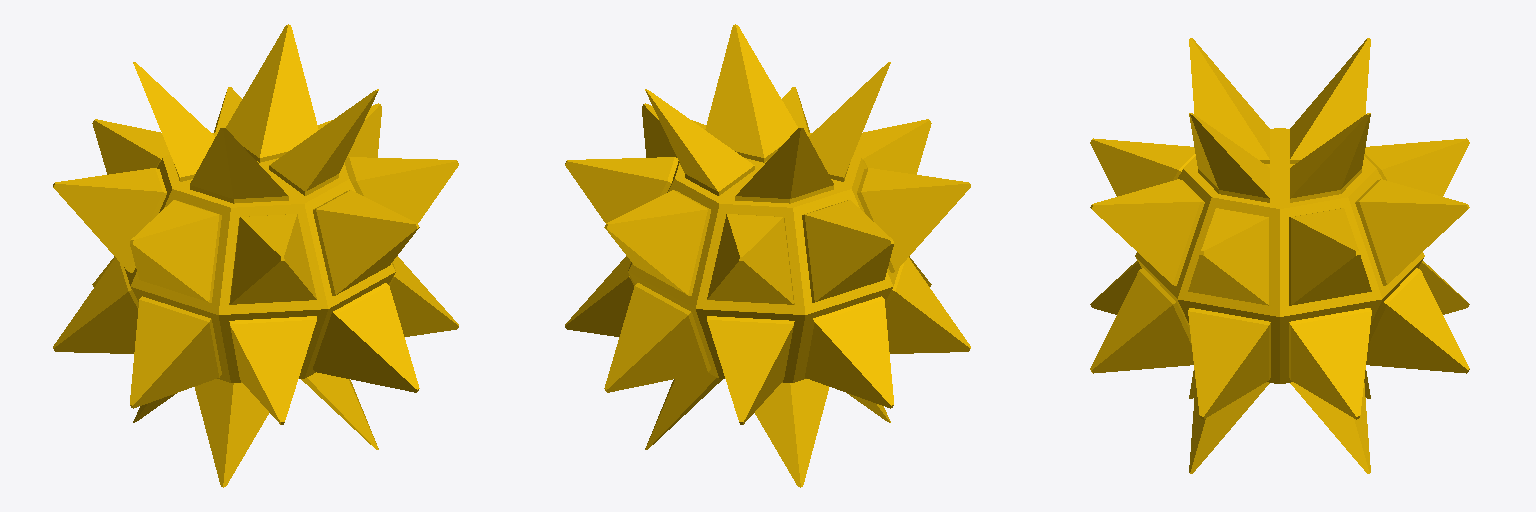
3 renders of one model, left to right at view 1: azimuth 30°, elevation 25°; view 2: azimuth 150°, elevation 25°; view 3: azimuth 270°, elevation 25°, orthographic.
Visible parts, largest first — view 1: Spark_Cylinder; view 2: Spark_Cylinder; view 3: Spark_Cylinder.
Part boxes in pixels (bbox=[...]): Spark_Cylinder: bbox=[53, 24, 458, 487]; Spark_Cylinder: bbox=[565, 24, 970, 487]; Spark_Cylinder: bbox=[1090, 38, 1469, 473].
Bounding box in the file's own units: 1.97 × 2.05 × 1.97.
Materials: 1 (1 with a texture image).